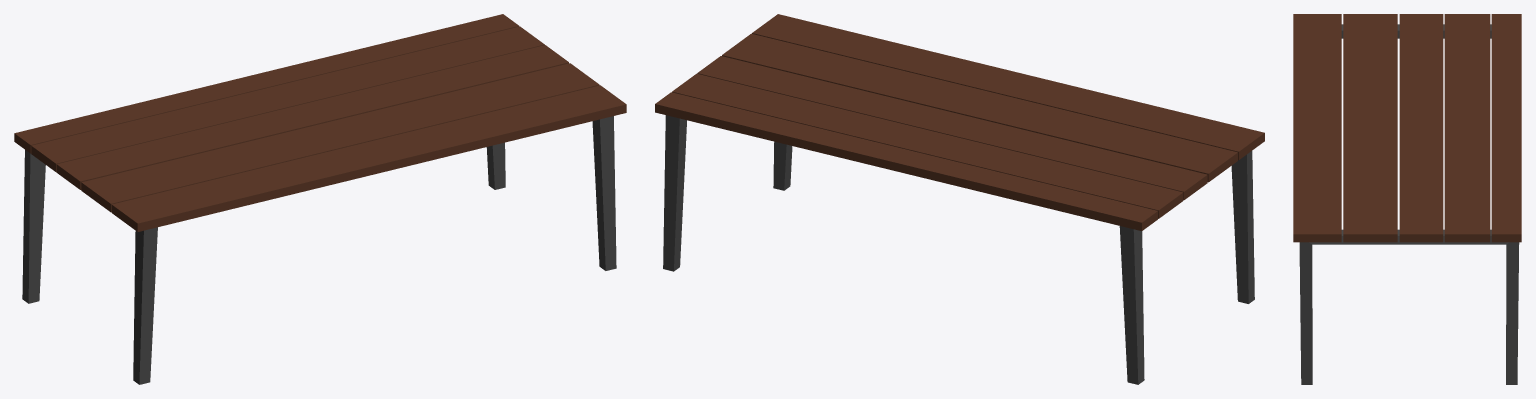
3 renders of one model, left to right at view 1: azimuth 30°, elevation 25°; view 2: azimuth 150°, elevation 25°; view 3: azimuth 270°, elevation 25°, orthographic. The views are drawn at different scales.
Parts seen in each view (by area): view 1: kitchen_table_001; view 2: kitchen_table_001; view 3: kitchen_table_001.
Boxes of the visible parts, x1,y1,x2,y2 form: kitchen_table_001: (14, 14, 626, 384); kitchen_table_001: (655, 14, 1264, 384); kitchen_table_001: (1293, 14, 1521, 384).
Size of the model in its own units: 2.15 by 0.6982 by 0.9417.
